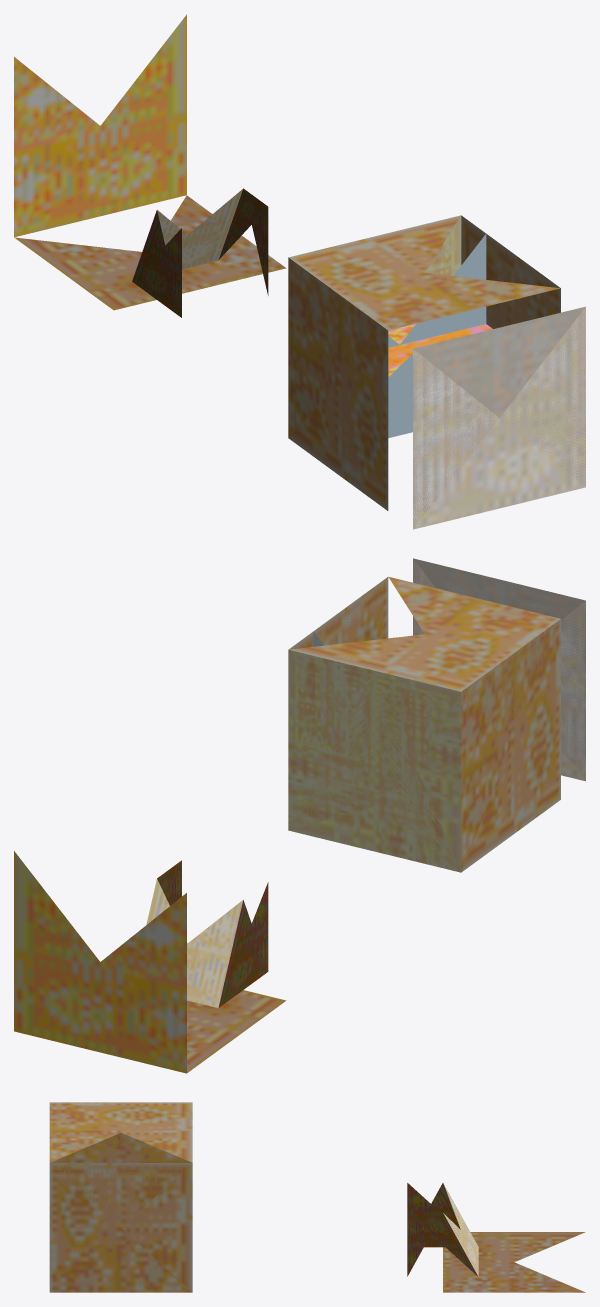
File: town_geometry_type_35.obj
3 views of the same model, one above another, from view 1: azimuth 30°, elevation 25°; view 2: azimuth 150°, elevation 25°; view 3: azimuth 270°, elevation 25° (orthographic). The views are drawn at different scales.
Parts seen in each view (by area): view 1: face_list_009, face_list_000, face_list_026, face_list_014, face_list_021, face_list_029, face_list_017, face_list_036, face_list_019, face_list_016, face_list_018, face_list_015 (+1 smaller); view 2: face_list_009, face_list_014, face_list_017, face_list_021, face_list_026, face_list_015, face_list_018, face_list_016, face_list_029, face_list_000, face_list_020, face_list_036 (+1 smaller); view 3: face_list_016, face_list_026, face_list_018, face_list_021, face_list_014, face_list_017.
Boxes of the visible parts, x1,y1,x2,y2 form: face_list_009: (14, 14, 186, 237); face_list_000: (413, 307, 585, 529); face_list_026: (14, 188, 285, 317); face_list_014: (288, 257, 388, 510); face_list_021: (289, 215, 559, 330); face_list_029: (413, 306, 585, 529); face_list_017: (288, 258, 386, 437); face_list_036: (415, 308, 585, 485); face_list_019: (388, 234, 486, 437); face_list_016: (461, 215, 560, 326); face_list_018: (425, 216, 558, 328); face_list_015: (388, 323, 492, 377); face_list_009: (14, 851, 186, 1073); face_list_014: (375, 619, 560, 872); face_list_017: (375, 620, 559, 872); face_list_021: (288, 576, 560, 781); face_list_026: (146, 860, 286, 1072); face_list_015: (288, 740, 461, 872); face_list_018: (289, 577, 387, 851); face_list_016: (288, 577, 388, 828); face_list_029: (413, 558, 585, 778); face_list_000: (413, 558, 585, 781); face_list_020: (288, 650, 450, 751); face_list_036: (413, 559, 585, 635); face_list_016: (49, 1163, 192, 1292); face_list_026: (407, 1183, 585, 1292); face_list_018: (50, 1163, 192, 1291); face_list_021: (49, 1102, 192, 1162); face_list_014: (50, 1132, 146, 1162); face_list_017: (96, 1133, 192, 1162).
Bounding box in the file's own units: 64 × 64 × 256.
Materials: 24 (24 with a texture image).
